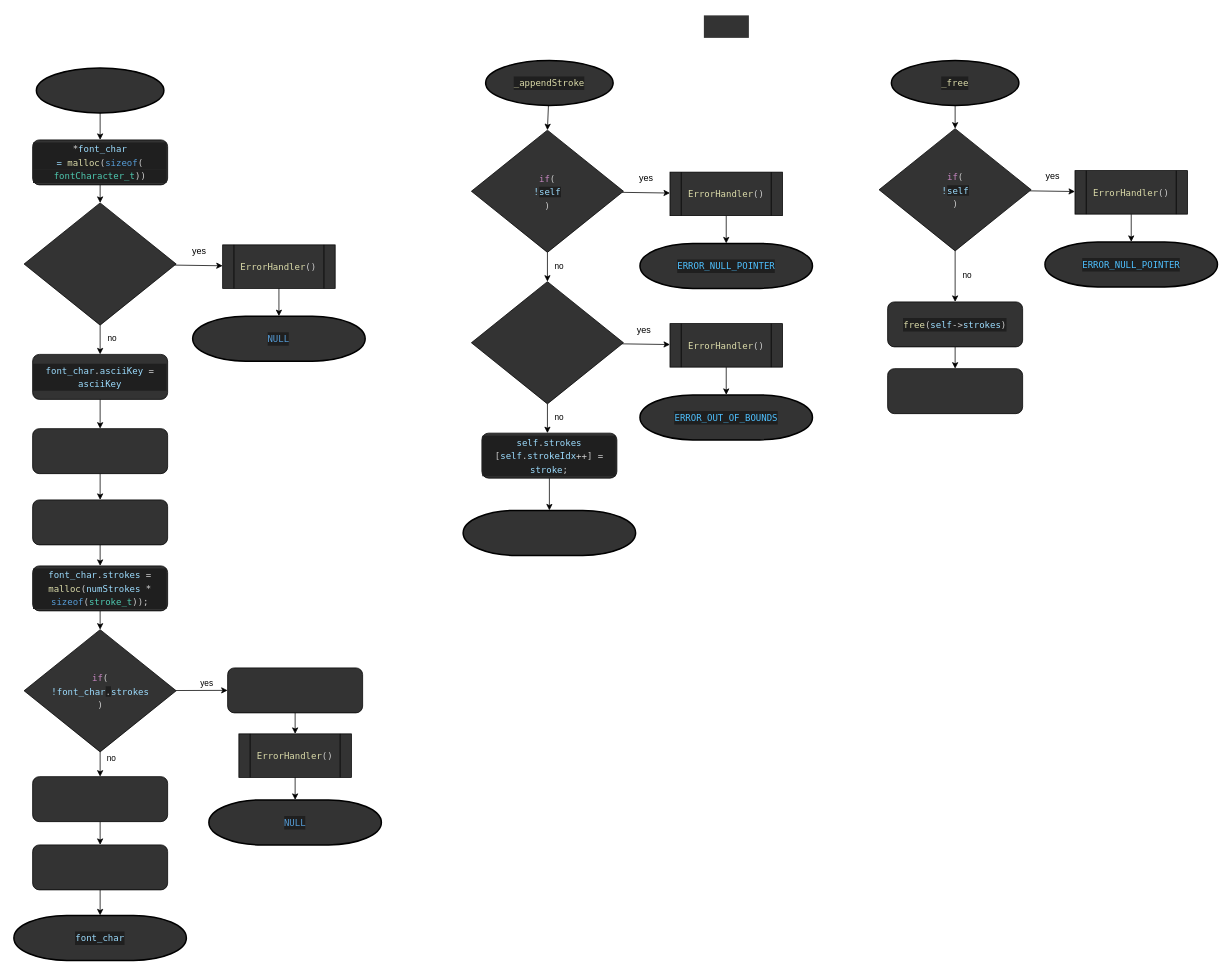
The diagram is 1231 pixels wide and 974 high, and some of its shapes have lost their labels. The shapes that lost their labels are listed below. From the top down, each one's centre as x and y in pixels, then its label:
At (726,26): "fontChar.c".
At (99,90): "fontCharConstuctor()".
At (99,263): "if ( ! font_char )".
At (547,342): "if ( self . strokeIdx > self . numStrokes )".
At (955,391): "free ( self )".
At (100,451): "font_char . numStrokes = numStrokes ;".
At (100,522): "font_char . strokeIdx = 1".
At (549,532): "SUCCESS".
At (295,690): "free ( font_char )".
At (100,799): "font_char . appendStroke = _appendStroke".
At (100,867): "font_char . free = _free".
